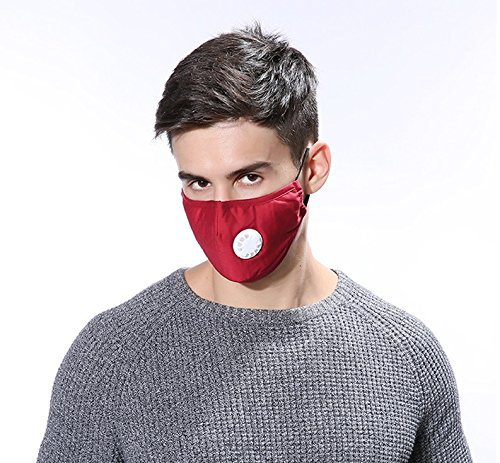mask: (152, 33, 340, 282)
